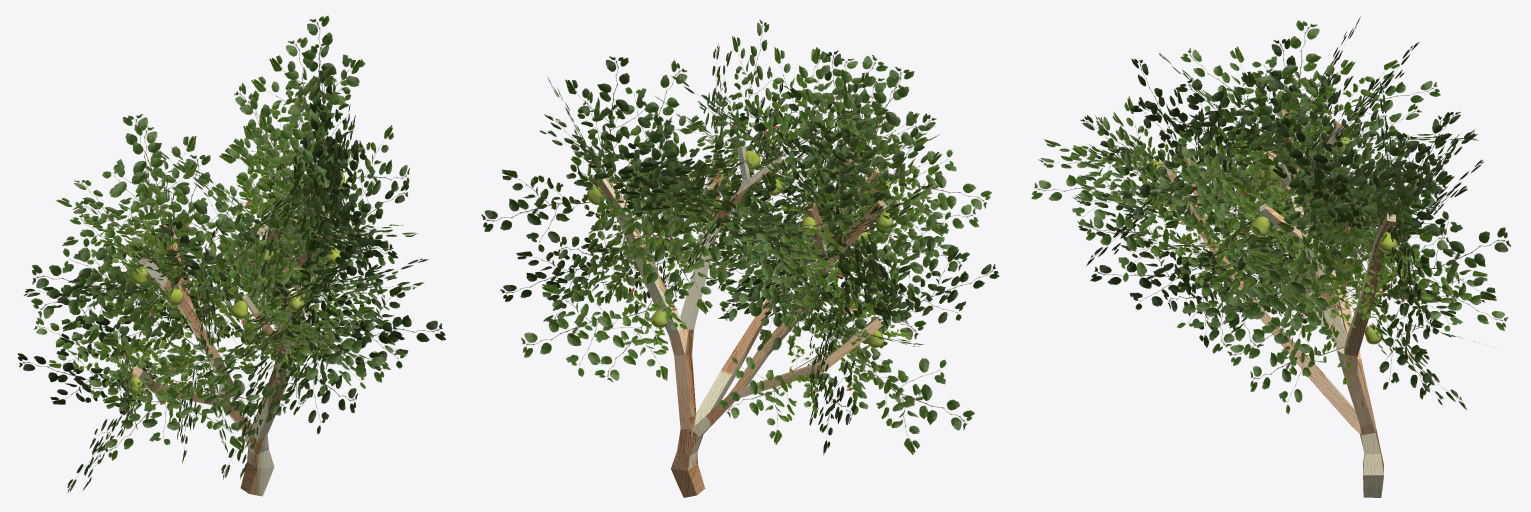
Rendered from guava.glb.
The picture shows the model from 3 angles, left to right: view 1: azimuth 30°, elevation 25°; view 2: azimuth 150°, elevation 25°; view 3: azimuth 270°, elevation 25°; orthographic projection. The views are drawn at different scales.
Visible parts, largest first — view 1: Tree Branch (×80), Plane; view 2: Tree Branch (×74), Plane; view 3: Tree Branch (×63), Plane.
Boxes of the visible parts, x1,y1,x2,y2 form: Tree Branch (×80): (17, 15, 446, 492); Plane: (132, 180, 337, 496); Tree Branch (×74): (481, 19, 999, 454); Plane: (593, 146, 887, 497); Tree Branch (×63): (1031, 20, 1511, 414); Plane: (1161, 109, 1395, 497).
Size of the model in its own units: 15.07 by 14.07 by 13.84.
14 materials, 14 textured.
